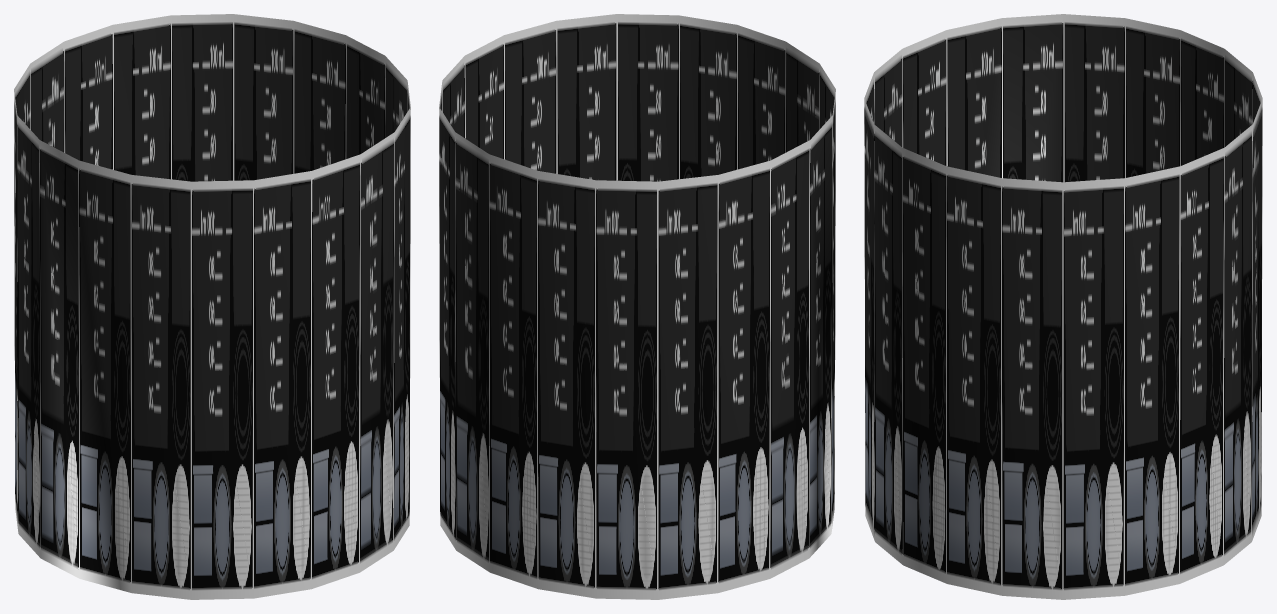
The model's file is membrane_filtration_pump_seperated_fixed_interior.fbx.
3 views of the same model, side by side, from view 1: azimuth 30°, elevation 25°; view 2: azimuth 150°, elevation 25°; view 3: azimuth 270°, elevation 25° (orthographic).
Visible parts, largest first — view 1: membrane_filtration_pump_interior; view 2: membrane_filtration_pump_interior; view 3: membrane_filtration_pump_interior.
Boxes of the visible parts, x1,y1,x2,y2 form: membrane_filtration_pump_interior: (14, 14, 410, 599); membrane_filtration_pump_interior: (439, 14, 835, 599); membrane_filtration_pump_interior: (864, 14, 1262, 599).
Bounding box in the file's own units: 4.81 × 5.74 × 4.81.
